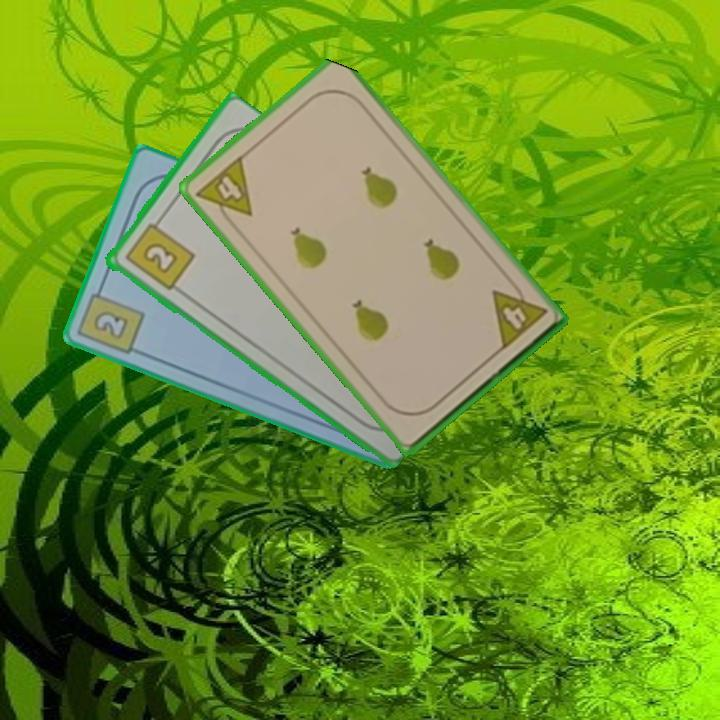2b: (121, 214, 197, 293), (75, 278, 148, 358)
4p: (192, 152, 255, 232), (487, 275, 550, 353)
